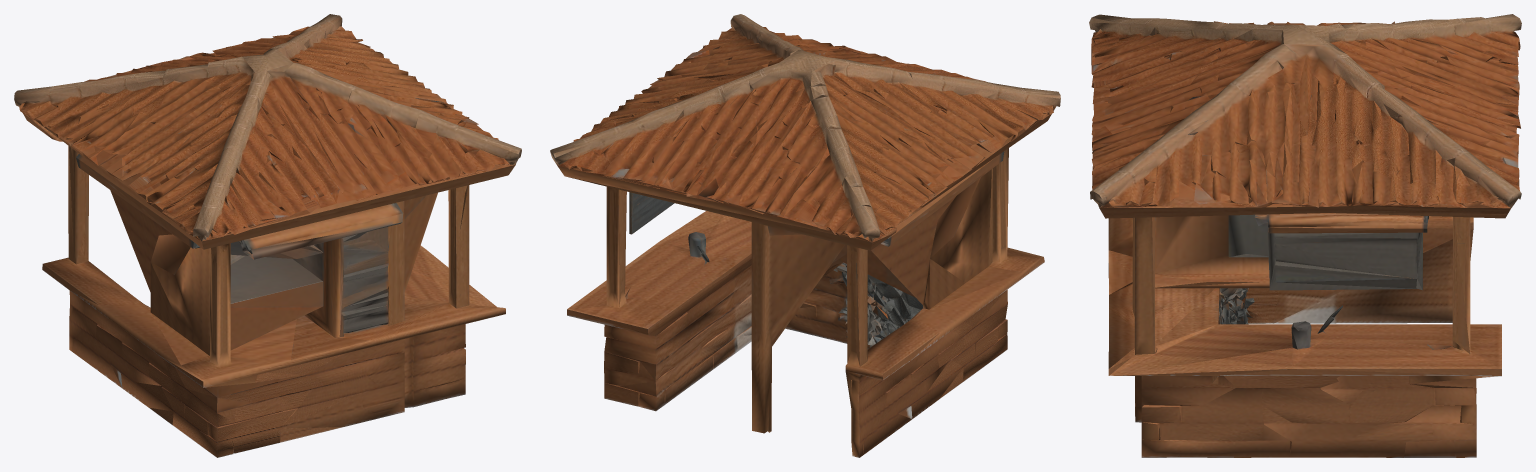
File: quiosque-orla-bc__01a1b60e.glb
3 renders of one model, left to right at view 1: azimuth 30°, elevation 25°; view 2: azimuth 150°, elevation 25°; view 3: azimuth 270°, elevation 25°, orthographic. The views are drawn at different scales.
Parts seen in each view (by area): view 1: quiosque-orla-bc__01a1b60e; view 2: quiosque-orla-bc__01a1b60e; view 3: quiosque-orla-bc__01a1b60e.
Part boxes in pixels (bbox=[...]): quiosque-orla-bc__01a1b60e: bbox=[14, 14, 521, 457]; quiosque-orla-bc__01a1b60e: bbox=[550, 14, 1060, 457]; quiosque-orla-bc__01a1b60e: bbox=[1089, 14, 1521, 457].
Bounding box in the file's own units: 3.78 × 3.6 × 3.8.
Materials: 1 (1 with a texture image).
